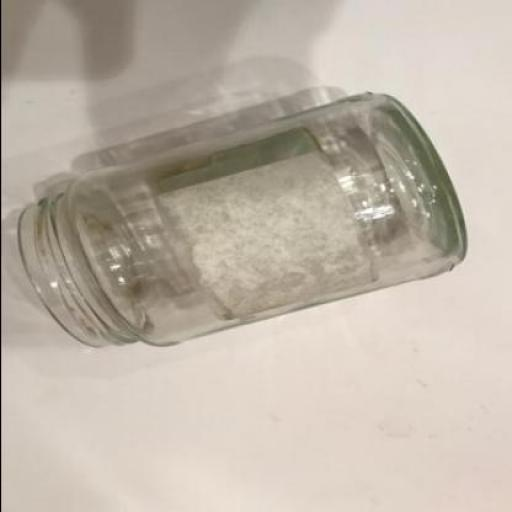glass: (20, 93, 470, 349)
